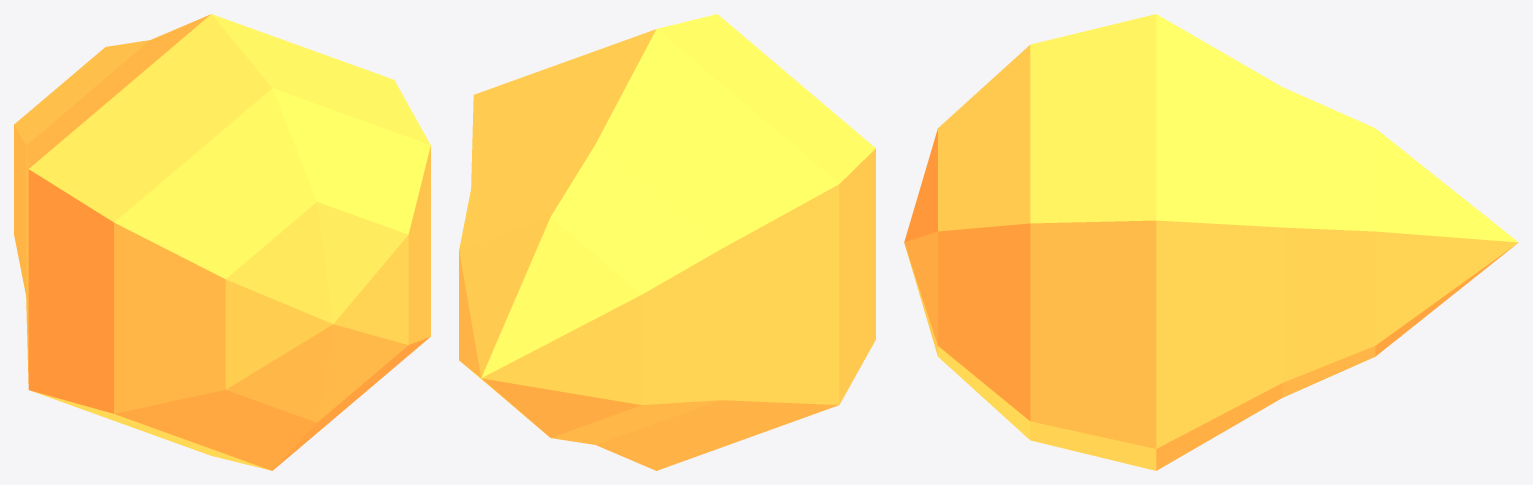
The model's file is fireball.glb.
3 views of the same model, side by side, from view 1: azimuth 30°, elevation 25°; view 2: azimuth 150°, elevation 25°; view 3: azimuth 270°, elevation 25° (orthographic). The views are drawn at different scales.
Parts seen in each view (by area): view 1: Sphere; view 2: Sphere; view 3: Sphere.
Part boxes in pixels (x1,y1,x2,y2): Sphere: (14, 14, 430, 470); Sphere: (459, 14, 875, 470); Sphere: (904, 14, 1518, 470).
Size of the model in its own units: 0.3464 by 0.4 by 0.4876.
